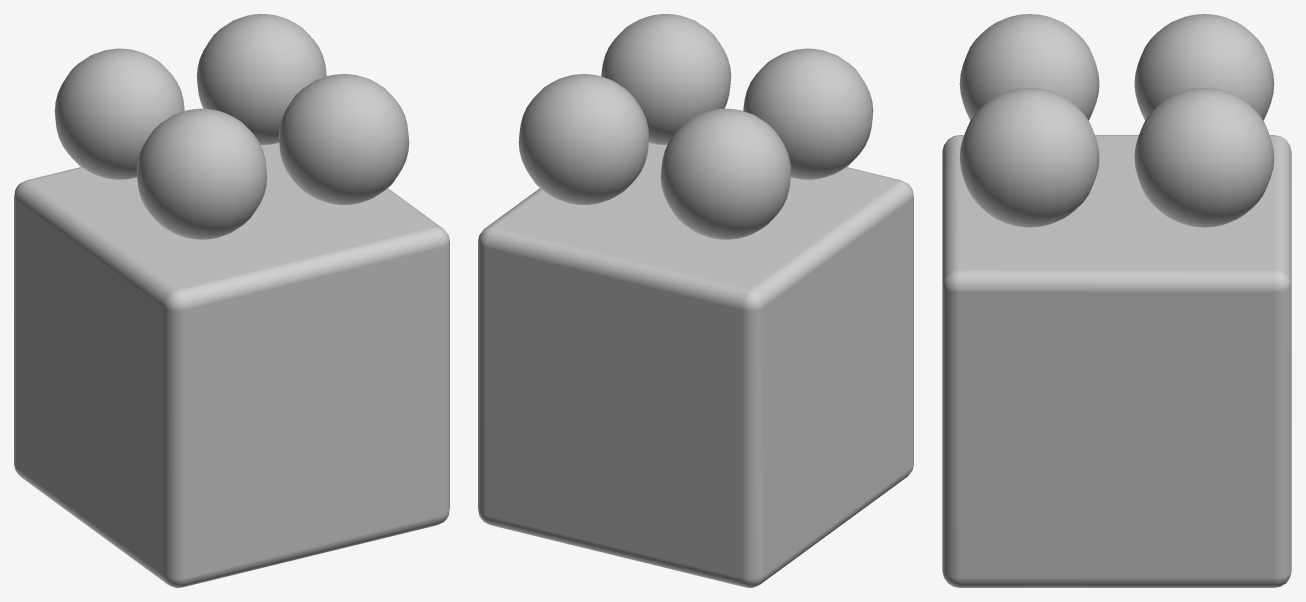
Rendered from SM_colorChecker.fbx.
The picture shows the model from 3 angles, left to right: view 1: azimuth 30°, elevation 25°; view 2: azimuth 150°, elevation 25°; view 3: azimuth 270°, elevation 25°; orthographic projection. The views are drawn at different scales.
Parts seen in each view (by area): view 1: SM_colorChecker; view 2: SM_colorChecker; view 3: SM_colorChecker.
Boxes of the visible parts, x1,y1,x2,y2 form: SM_colorChecker: (14, 14, 449, 587); SM_colorChecker: (478, 14, 913, 587); SM_colorChecker: (942, 14, 1291, 587).
Bounding box in the file's own units: 100 × 146 × 100.
